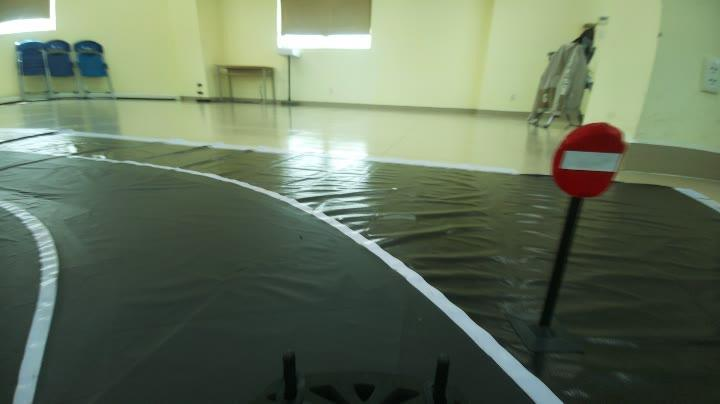no_entry: (554, 109, 633, 194)
